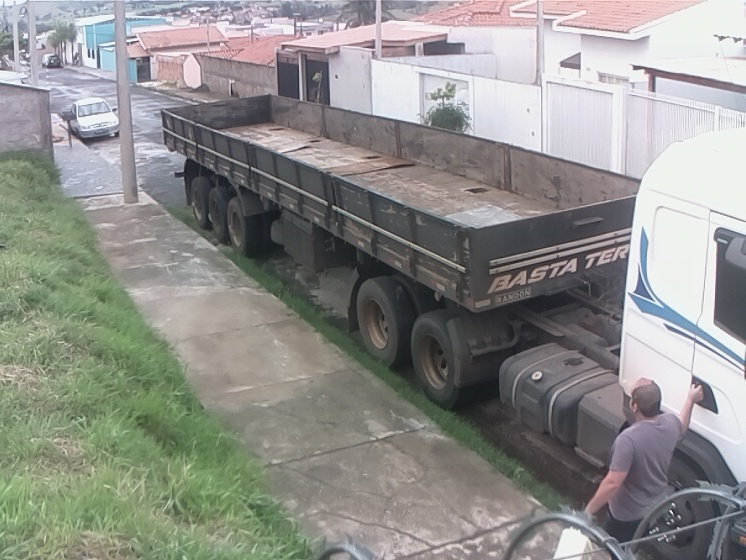person: (578, 373, 707, 560)
